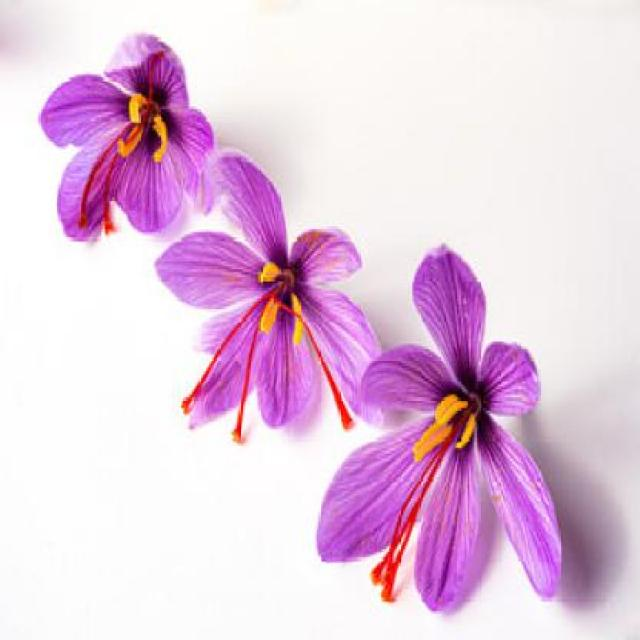Flower: (321, 232, 564, 603), (170, 142, 390, 442), (34, 26, 203, 246)
stigma: (377, 425, 462, 607), (179, 286, 283, 416), (368, 440, 448, 590), (276, 304, 358, 432), (76, 120, 131, 230), (231, 301, 272, 444), (101, 134, 141, 238), (144, 50, 170, 109)
